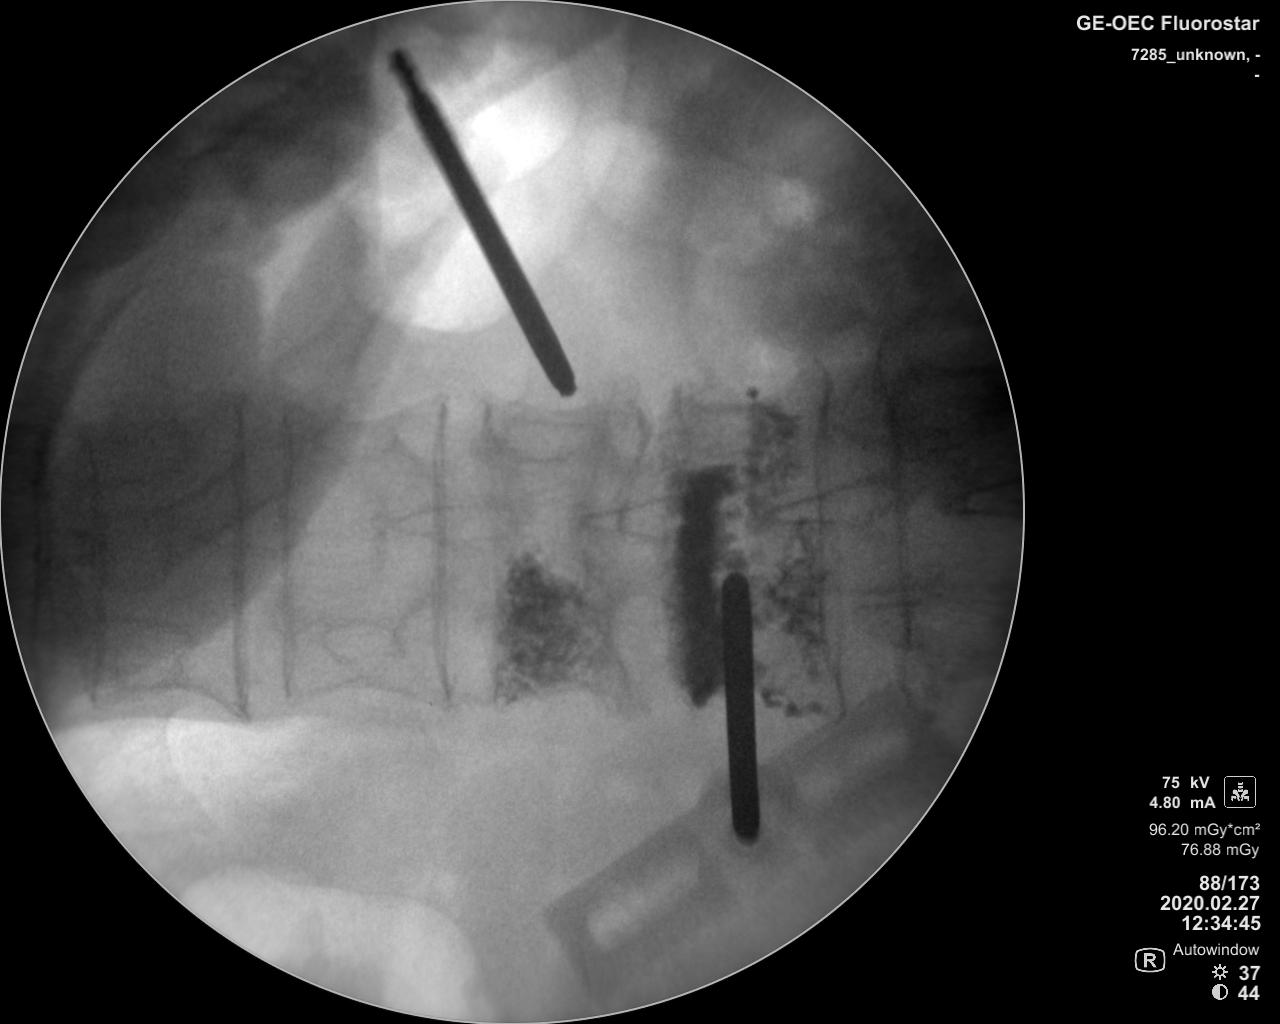eyes: (111, 623, 191, 685), (503, 414, 601, 463), (321, 616, 406, 670), (317, 408, 401, 460)
line: (806, 360, 854, 720), (876, 357, 918, 688), (225, 393, 253, 722), (74, 430, 107, 713), (429, 397, 457, 705), (273, 400, 298, 705)
nose: (757, 478, 912, 532), (378, 501, 525, 549), (573, 495, 693, 548), (942, 473, 1020, 525)
